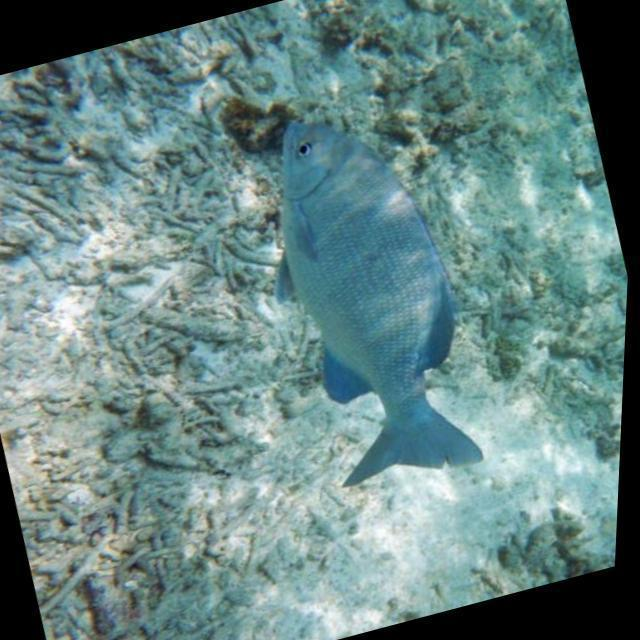Dead Coral: (0, 82, 350, 640), (490, 232, 625, 443), (334, 0, 504, 144)
